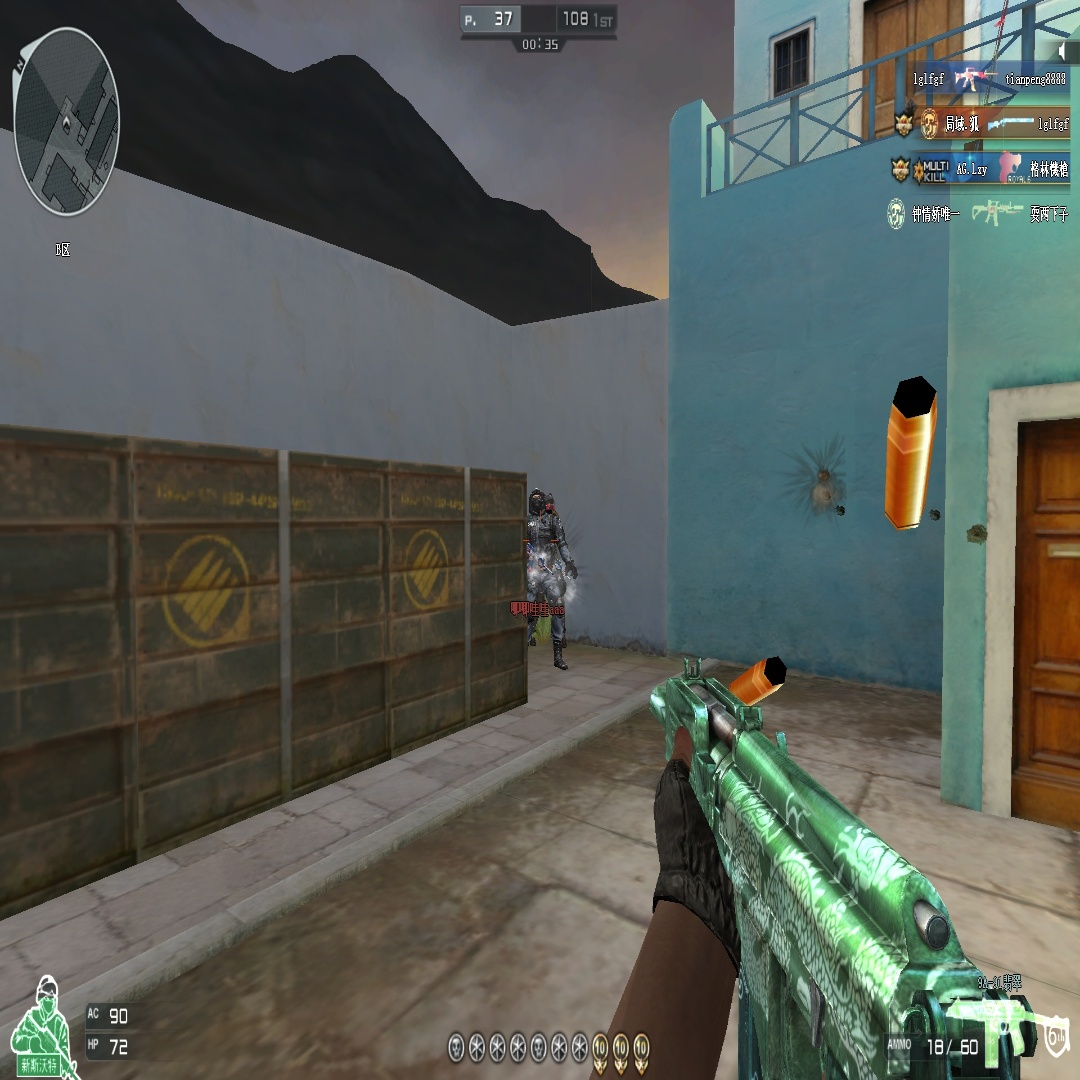head: (528, 487, 545, 514)
p: (525, 480, 568, 668)
